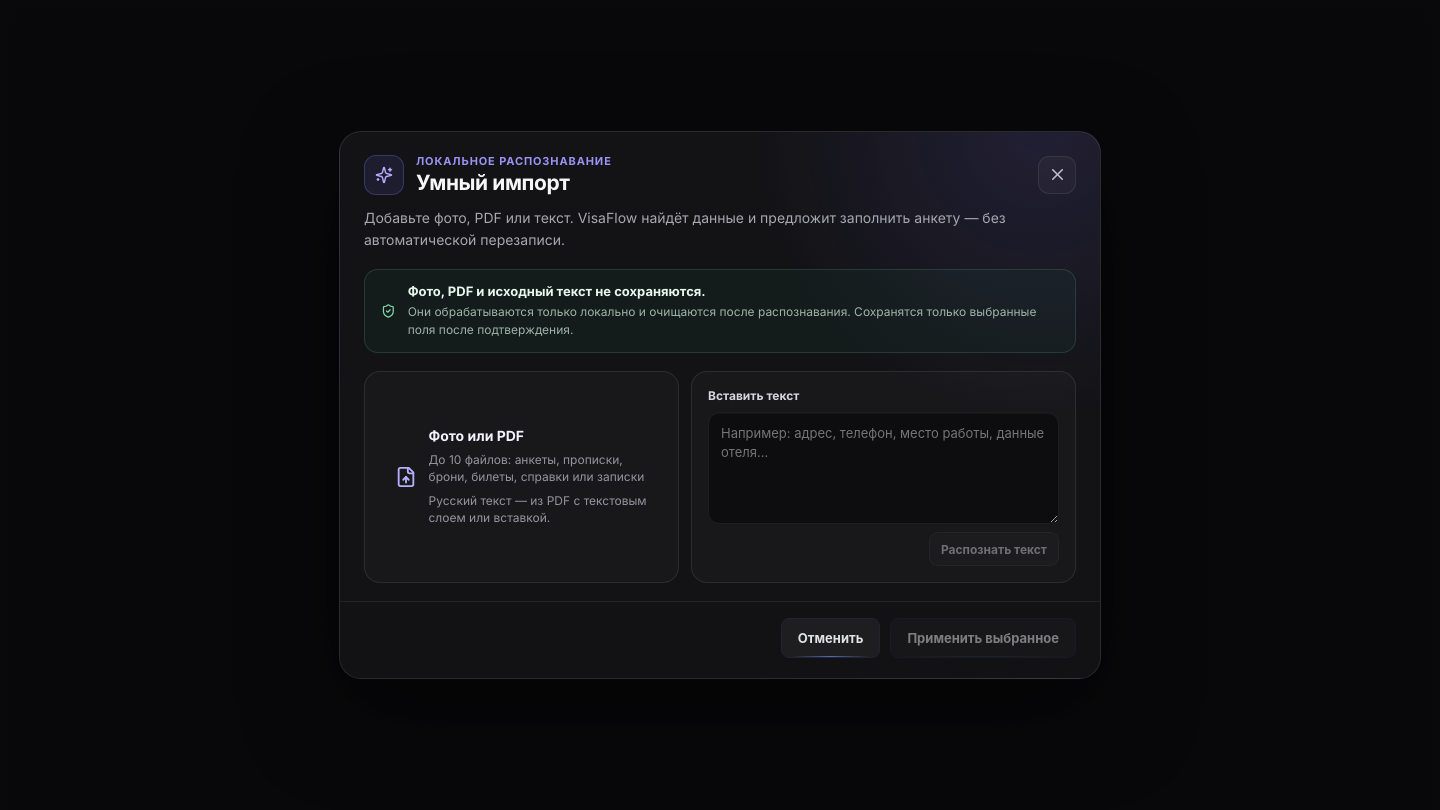
Scenario: SmartImportDialog › processes pasted text, clears it, and shows sanitized review rows
In the text box labelled "Вставить текст": {"x": 884, "y": 468} [708,412,1059,524], type "СЕКРЕТНЫЙ ИСХОДНЫЙ ТЕКСТ"
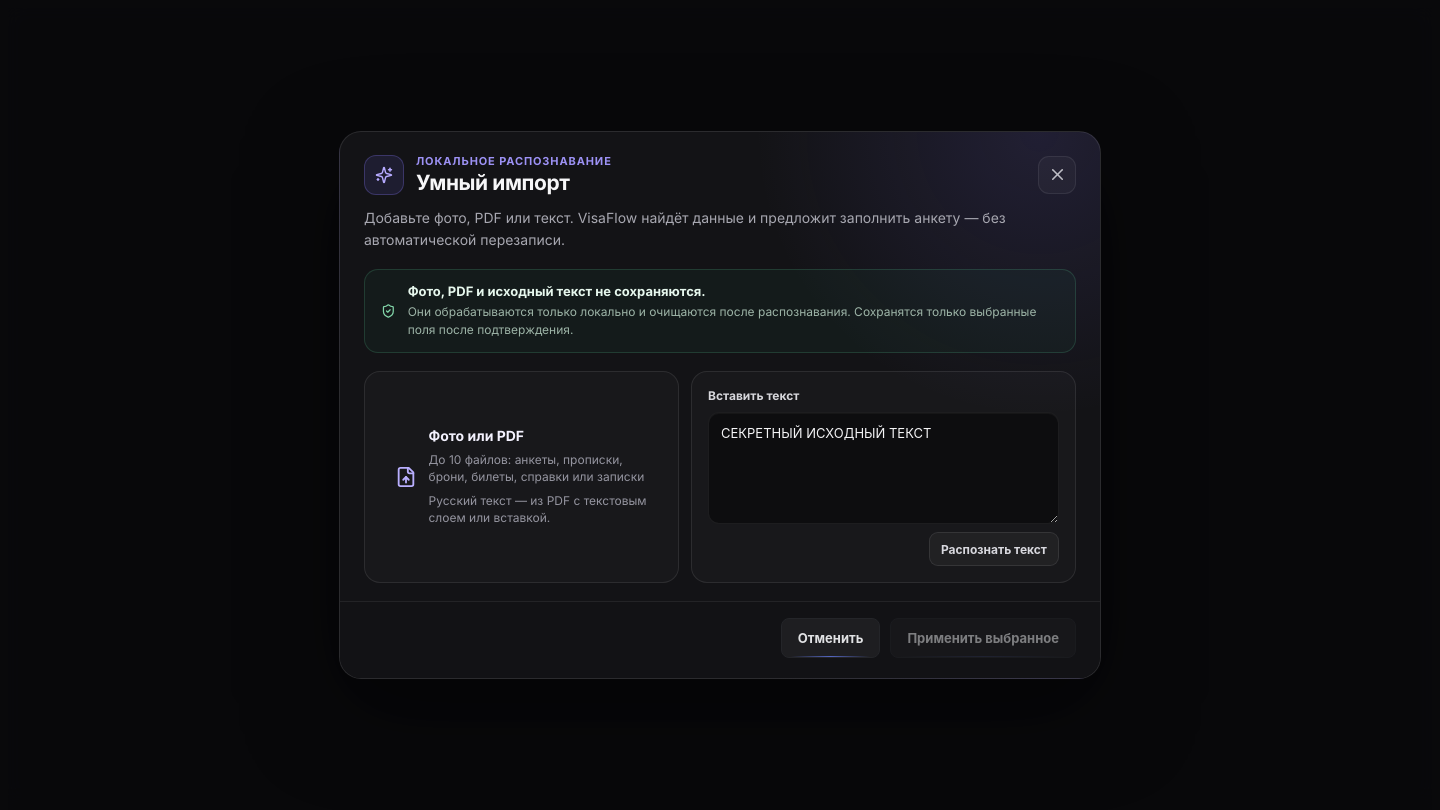
Click the button "Распознать текст": {"x": 994, "y": 549} [929,532,1059,566]
(page scrolled)
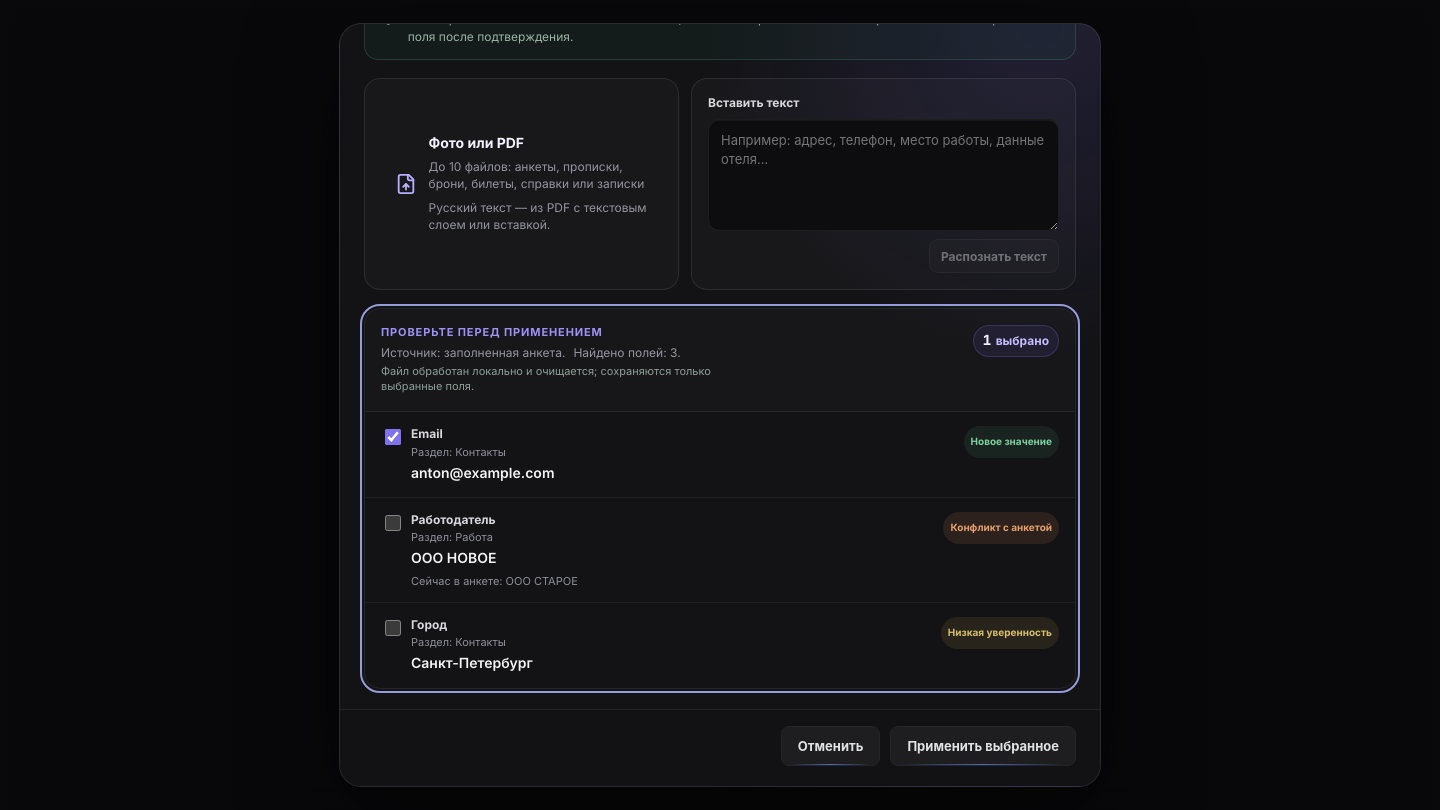
Expected: the text "anton@example.com" is shown, [411,465,554,482]
Expected: the text box labelled "Вставить текст" is empty, [708,119,1059,232]
Expected: the text "Раздел: Контакты" is shown 2 times, [411,445,506,459]; [411,635,506,649]
